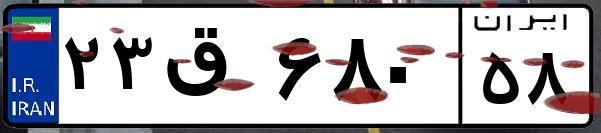0: (385, 28, 445, 110)
2: (57, 26, 110, 100)
3: (110, 28, 158, 98)
5: (475, 38, 525, 113)
6: (270, 28, 330, 110)
8: (330, 28, 385, 110), (525, 38, 570, 115)
ق: (158, 20, 270, 120)
